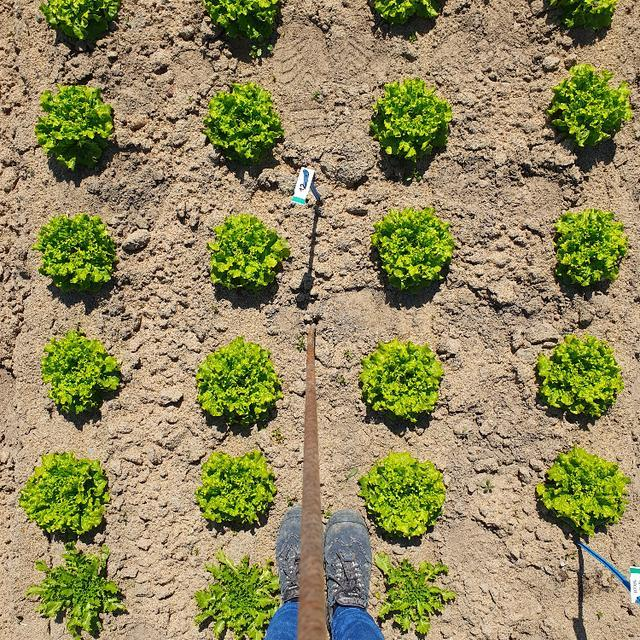Lettuce: (27, 544, 135, 638), (536, 443, 632, 542), (370, 202, 460, 298), (367, 76, 455, 172), (532, 332, 622, 423), (358, 337, 448, 428), (36, 80, 122, 175), (23, 448, 108, 544), (206, 206, 296, 296), (38, 550, 130, 638), (543, 65, 630, 157), (195, 333, 282, 425), (366, 554, 466, 634), (40, 332, 127, 423), (552, 202, 632, 300), (202, 77, 286, 170), (195, 555, 285, 640), (195, 448, 280, 535), (362, 455, 448, 537), (40, 215, 120, 298), (202, 0, 285, 62), (36, 0, 126, 53), (367, 0, 448, 45), (550, 0, 615, 47)
